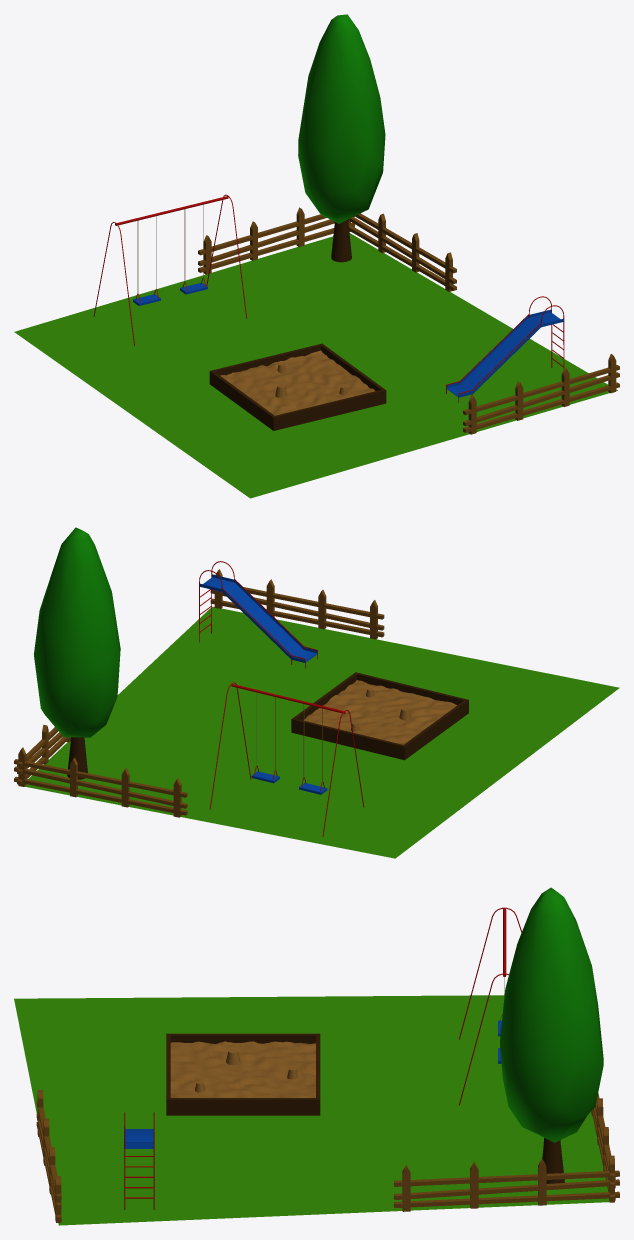
Rendered from Model_Parque.FBX.
3 views of the same model, one above another, from view 1: azimuth 30°, elevation 25°; view 2: azimuth 150°, elevation 25°; view 3: azimuth 270°, elevation 25° (orthographic). The views are drawn at different scales.
Visible parts, largest first — view 1: Parque; view 2: Parque; view 3: Parque.
Boxes of the visible parts, x1,y1,x2,y2 form: Parque: [14, 14, 619, 498]; Parque: [14, 527, 619, 858]; Parque: [14, 887, 619, 1225].
Bounding box in the file's own units: 509 × 303 × 564.
